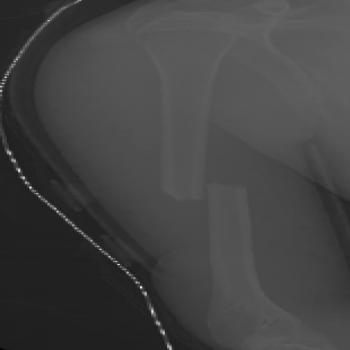Fracture: (147, 174, 265, 207)
